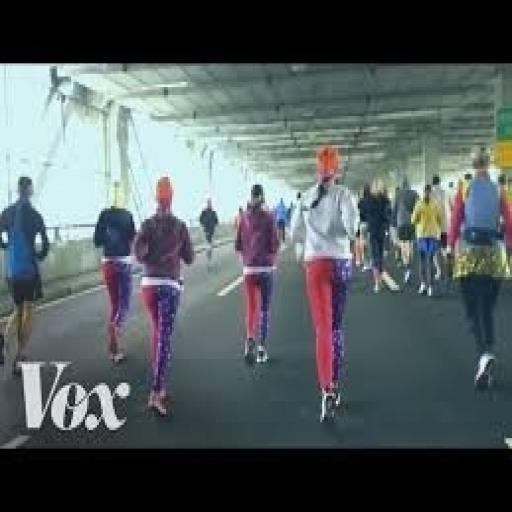running: (288, 142, 366, 425), (443, 140, 510, 393), (130, 172, 198, 420), (0, 171, 53, 377), (231, 179, 283, 367), (91, 177, 138, 369)
